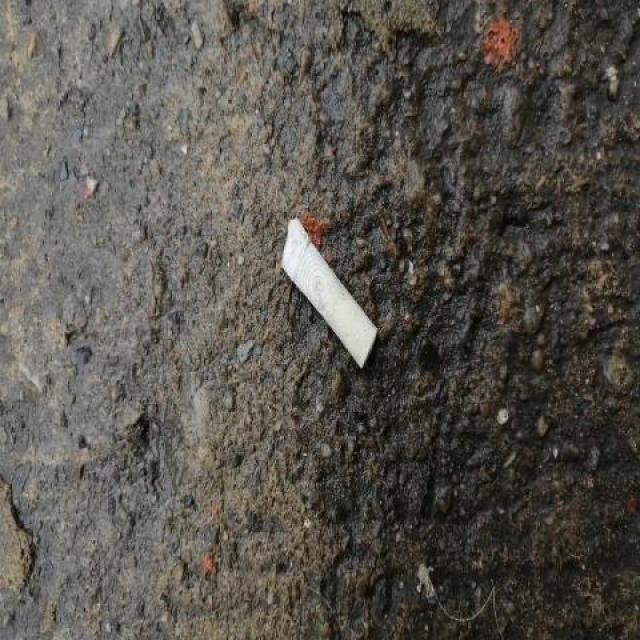non-organic waste: (275, 212, 381, 372)
